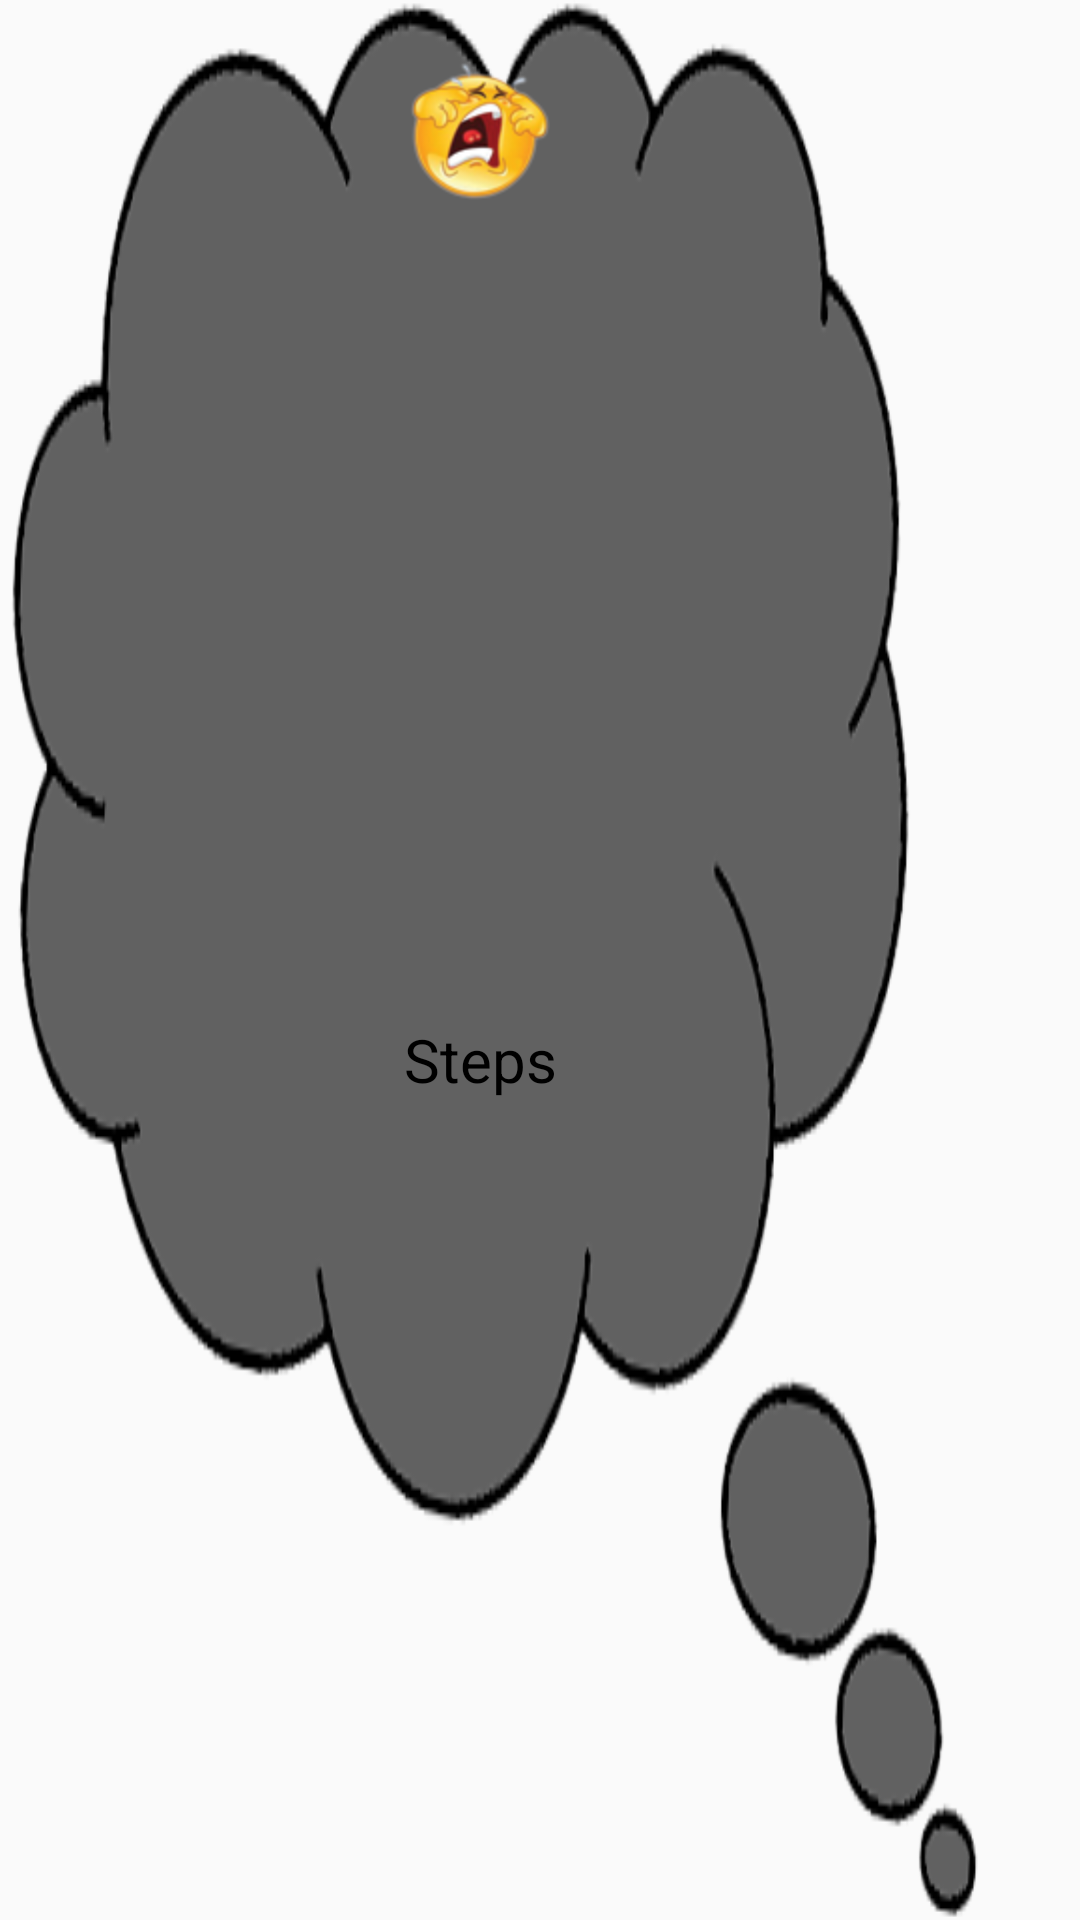

Icons on this 1080×1920 Android screen, each with the point to tap as point (x, y):
smile bad: point (480, 129)
